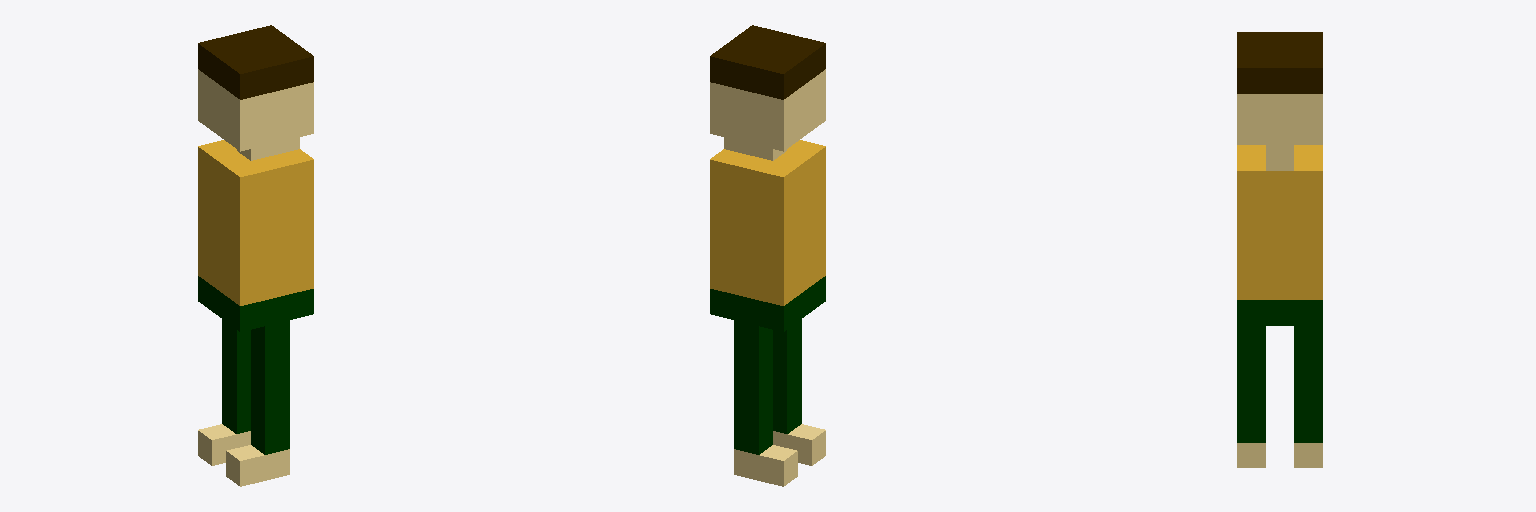
3 renders of one model, left to right at view 1: azimuth 30°, elevation 25°; view 2: azimuth 150°, elevation 25°; view 3: azimuth 270°, elevation 25°, orthographic.
Visible parts, largest first — view 1: torso; view 2: torso; view 3: torso.
Part boxes in pixels (left/top/right/bottom): torso: left=198, top=25, right=313, bottom=486; torso: left=710, top=25, right=825, bottom=486; torso: left=1237, top=32, right=1322, bottom=467.
Bounding box in the file's own units: 0.3 × 1.6 × 0.3.
1 materials, 1 textured.